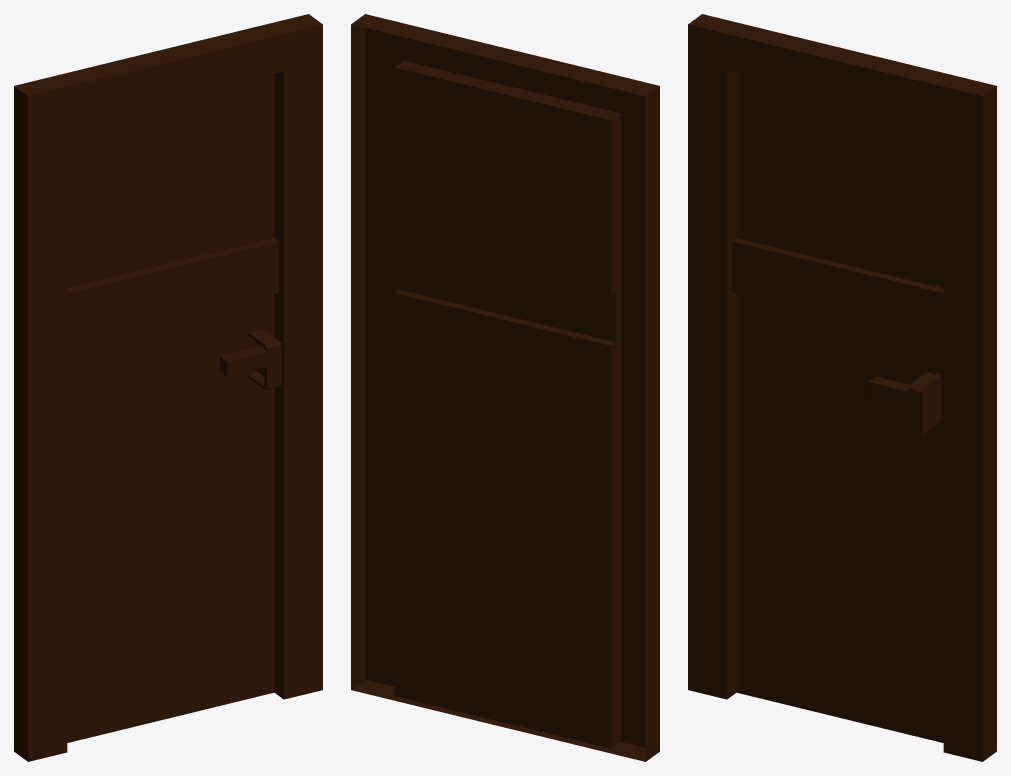
The model's file is BasicDoor.obj.
3 renders of one model, left to right at view 1: azimuth 30°, elevation 25°; view 2: azimuth 150°, elevation 25°; view 3: azimuth 330°, elevation 25°, orthographic.
Visible parts, largest first — view 1: mergedBlocks; view 2: mergedBlocks; view 3: mergedBlocks.
Part boxes in pixels (x1,y1,x2,y2): mergedBlocks: [14, 14, 322, 761]; mergedBlocks: [351, 14, 659, 761]; mergedBlocks: [688, 14, 996, 761].
Bounding box in the file's own units: 0.3586 × 0.7738 × 0.05.
